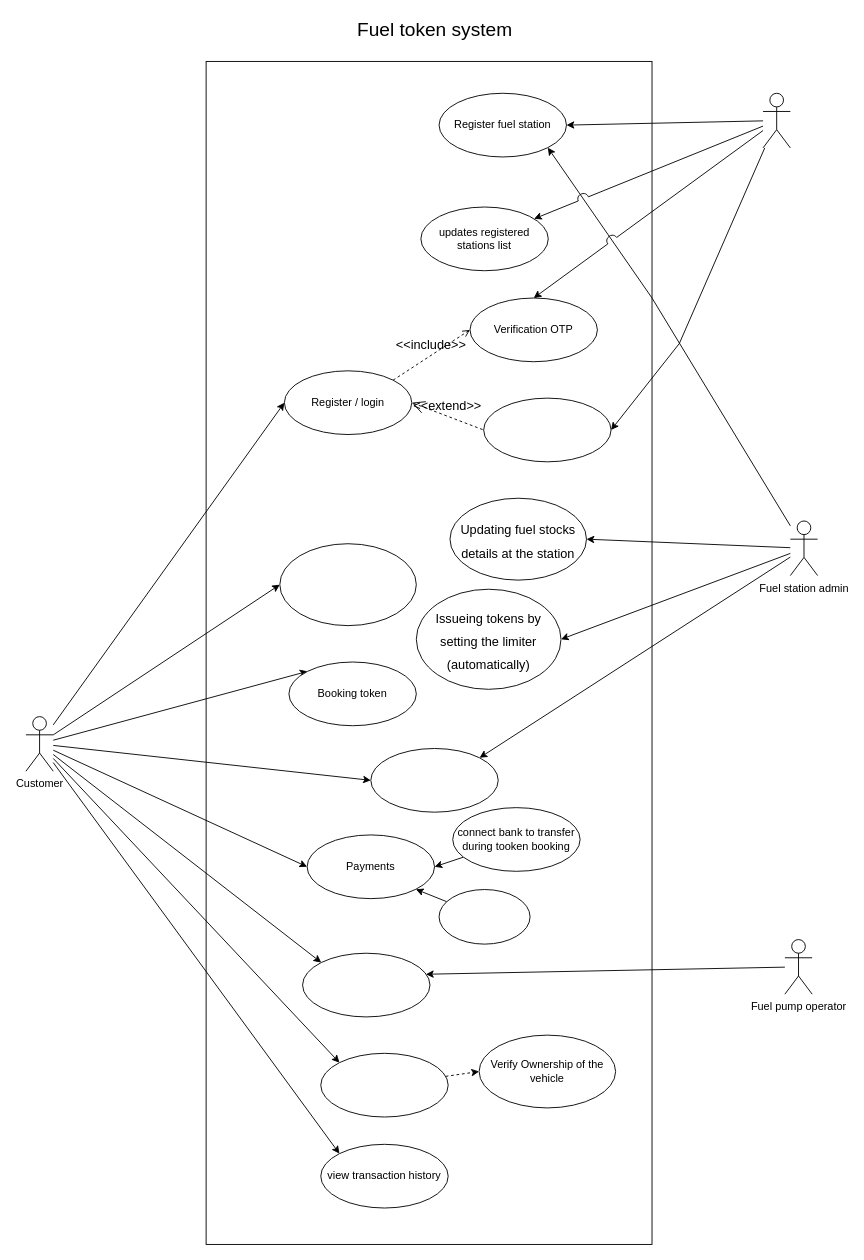
Image size: 864x1260. Some labels were removed from this diagram. The centre of each missing label's shape, as x and y in pixels:
Add vehicles: point (384, 1084)
cash: point (484, 916)
Claiming token: point (366, 984)
Fuel availability in station: point (347, 584)
Login Error: point (547, 429)
System admin: point (776, 120)
Token details real time updates: point (434, 780)
